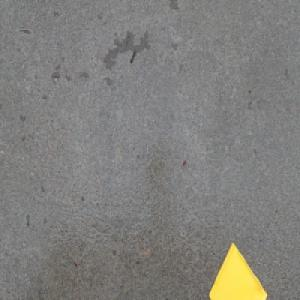PlasticPart: (207, 238, 267, 300)
